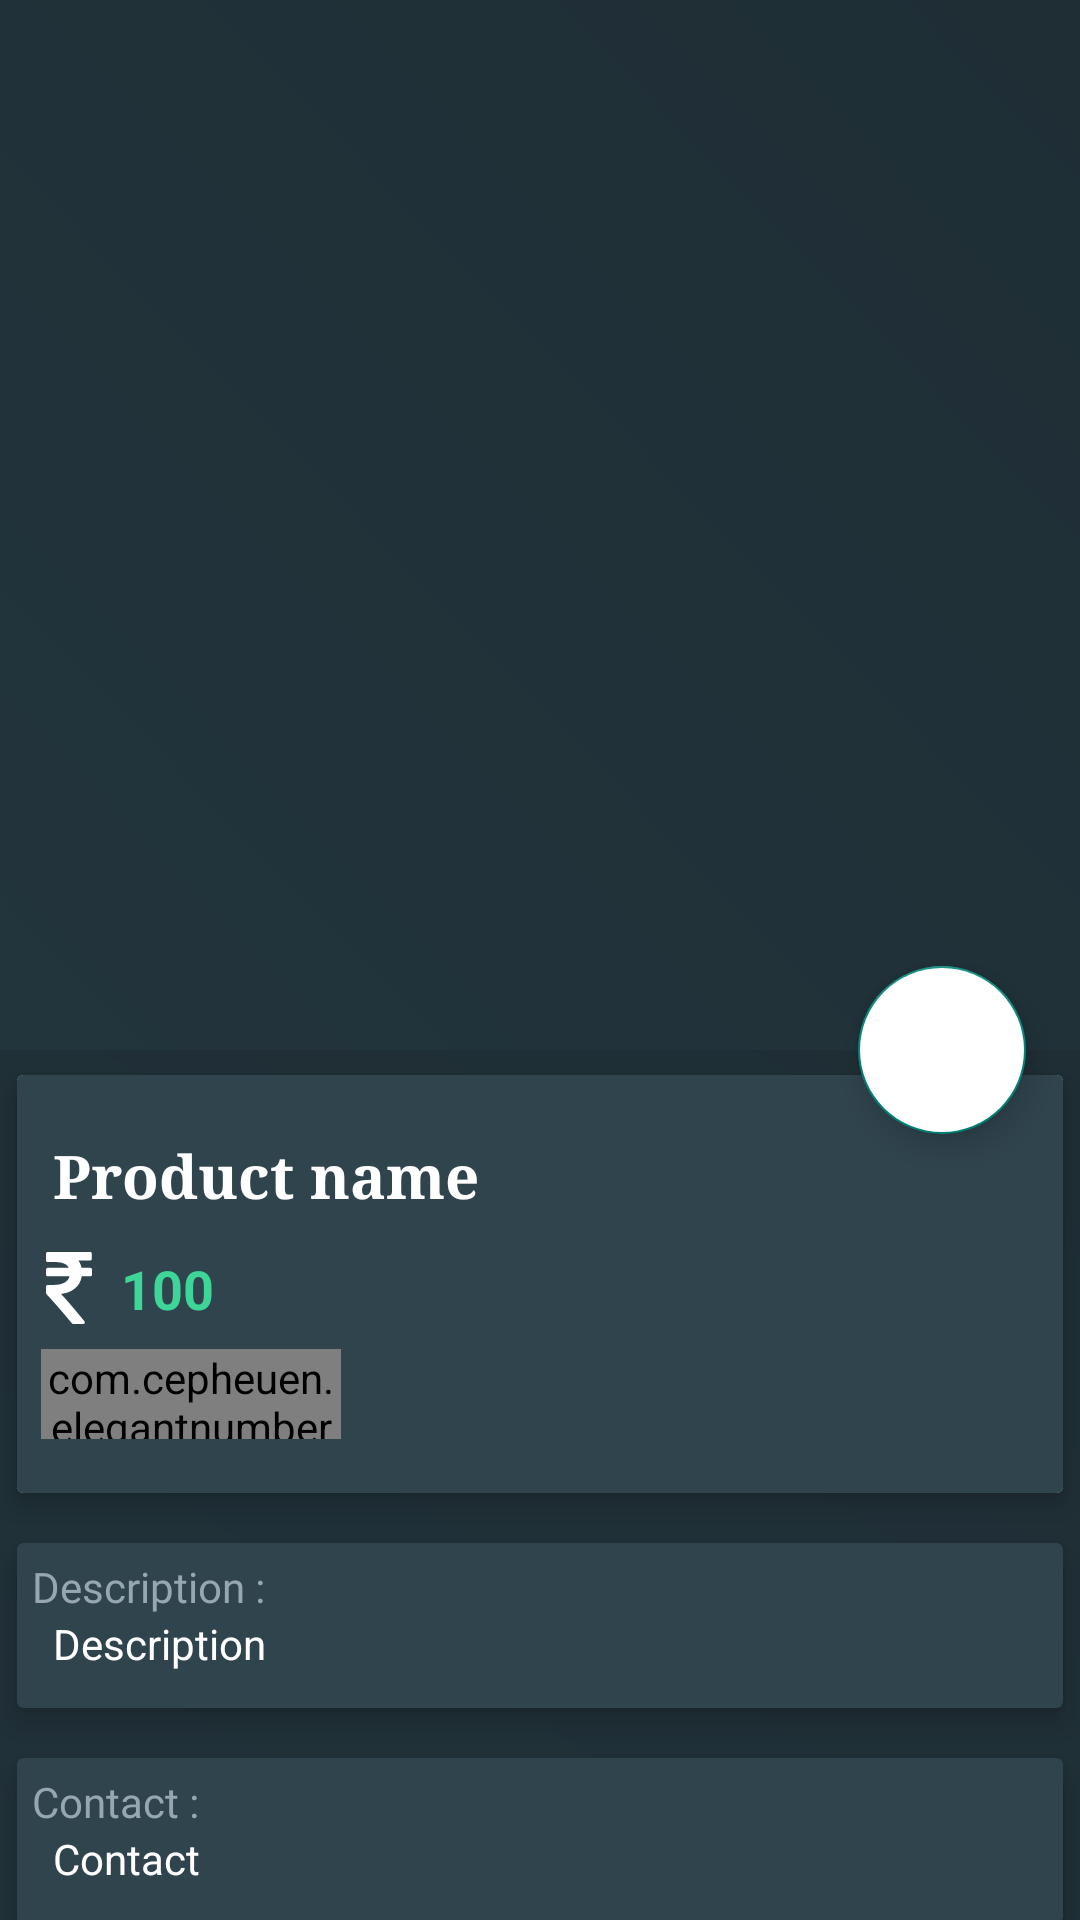

Icons on this 1080w x 1920h Android screen, each with the point to tap as (x,y):
rupeeindian: (69,1288)
